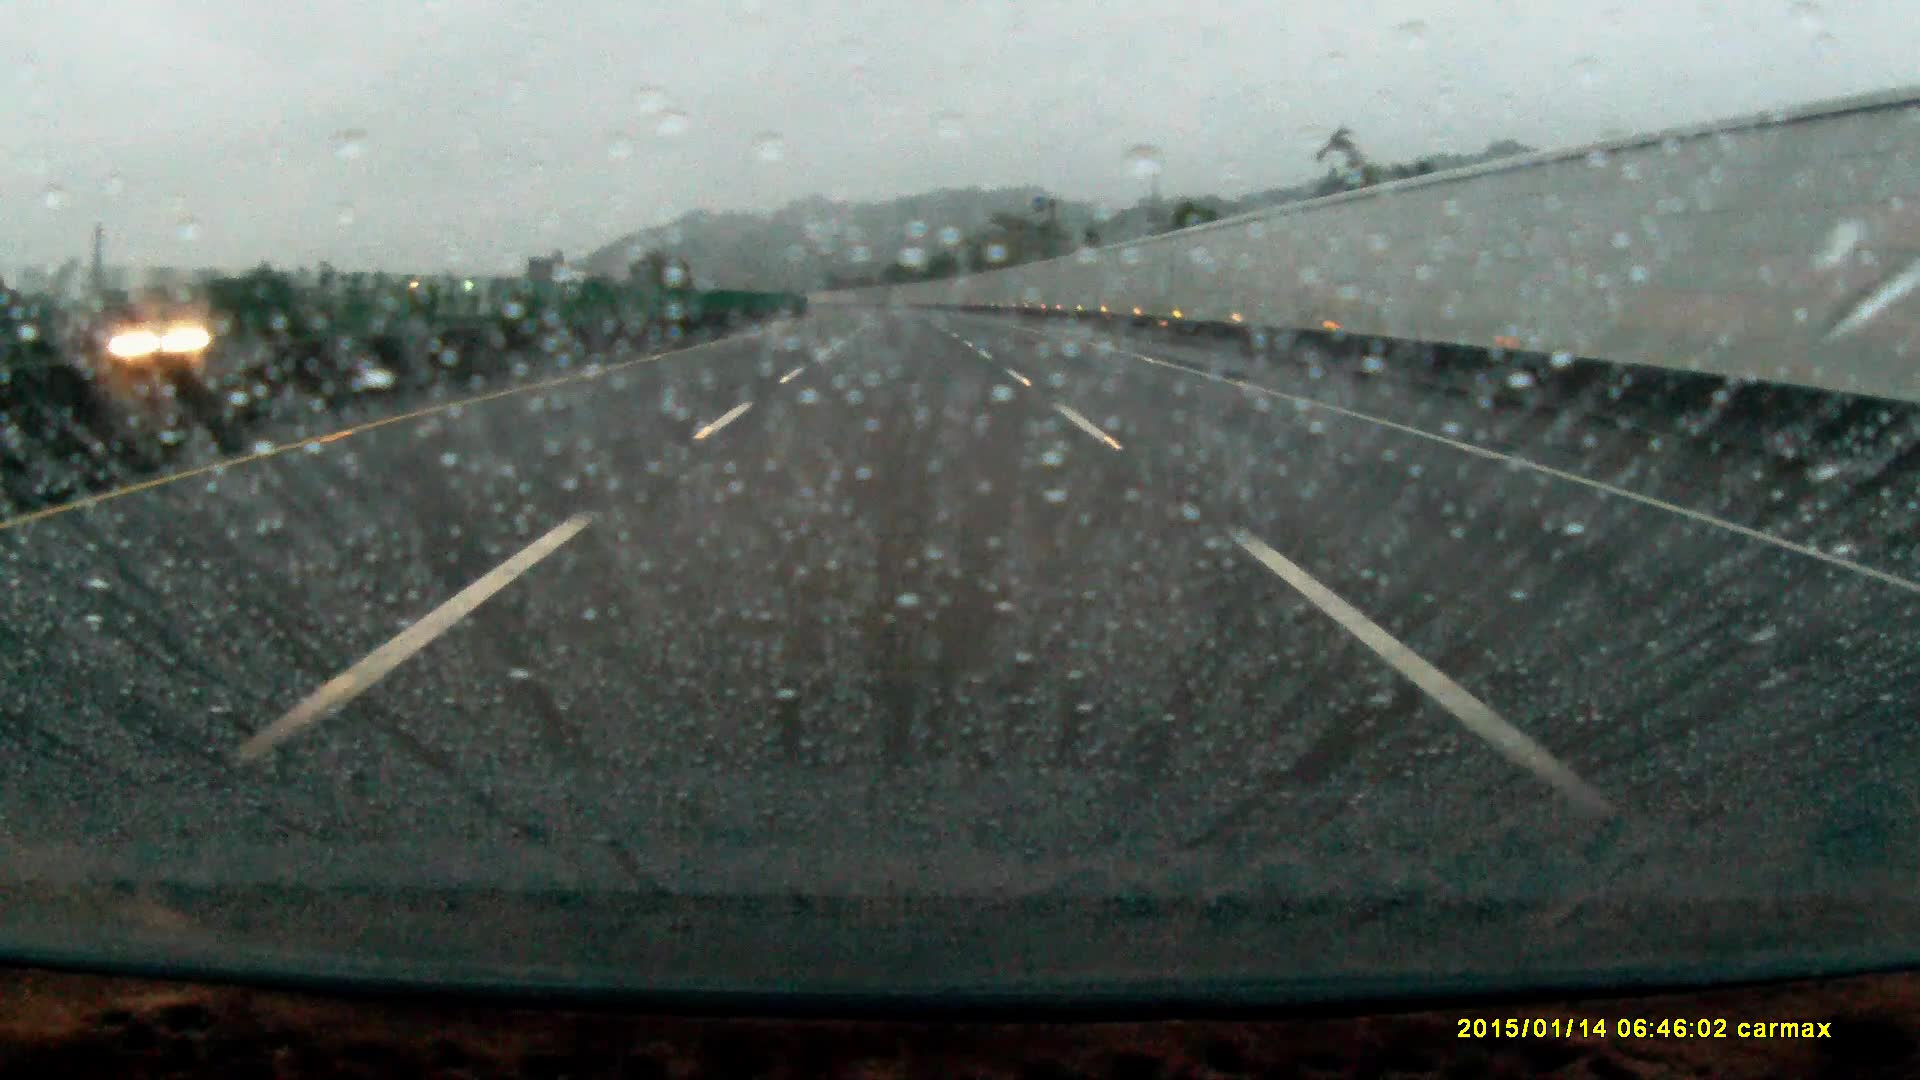vehicle: (111, 305, 249, 378)
